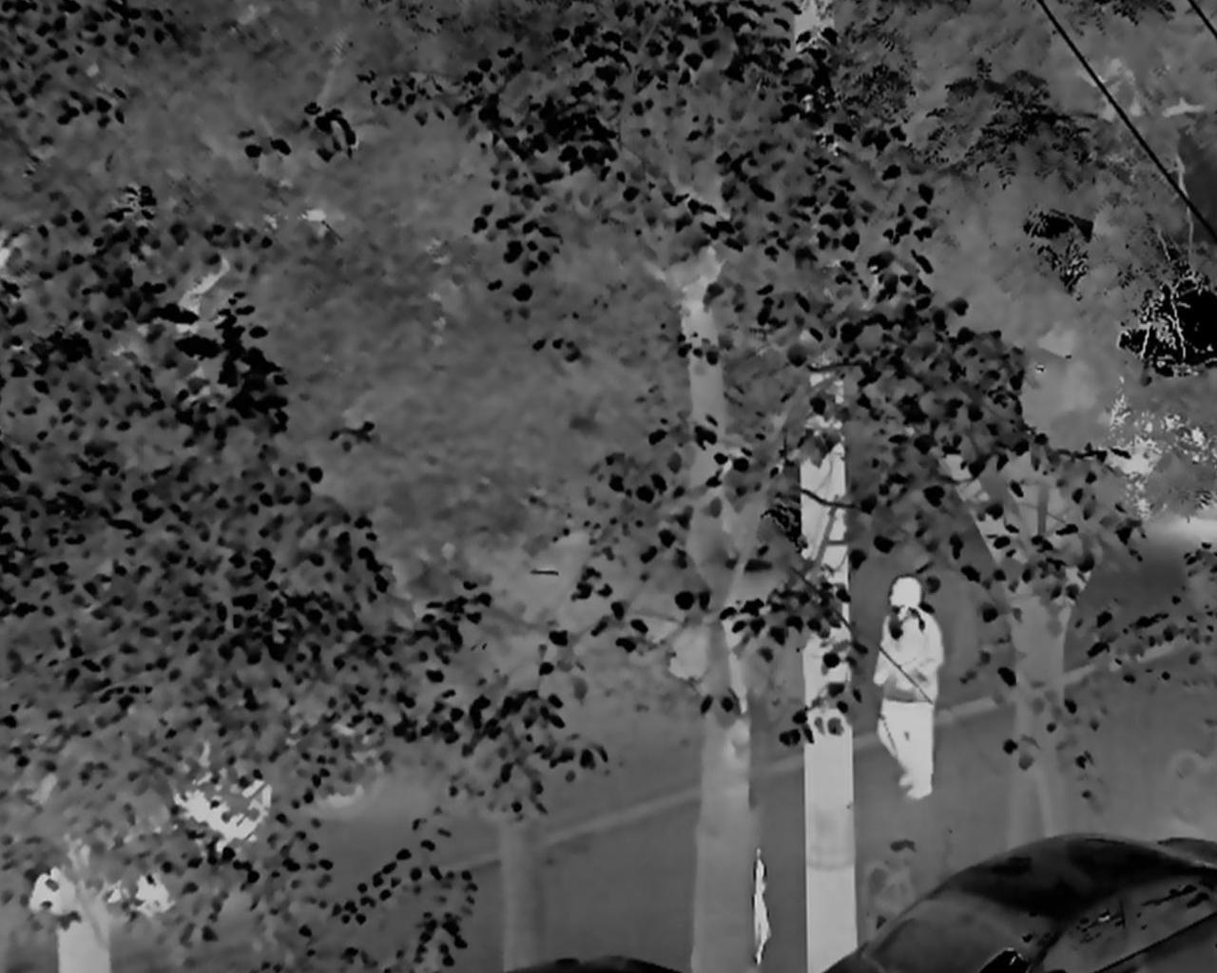person: (867, 579, 948, 801)
